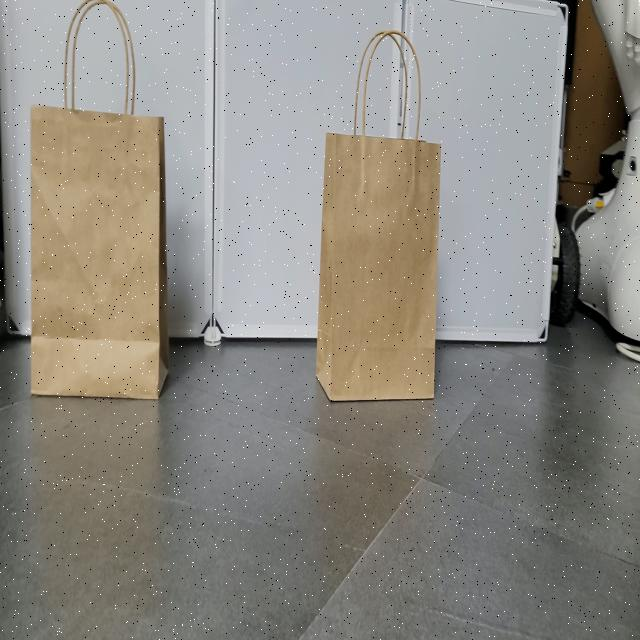paper bag: (29, 0, 171, 397), (316, 30, 443, 403)
